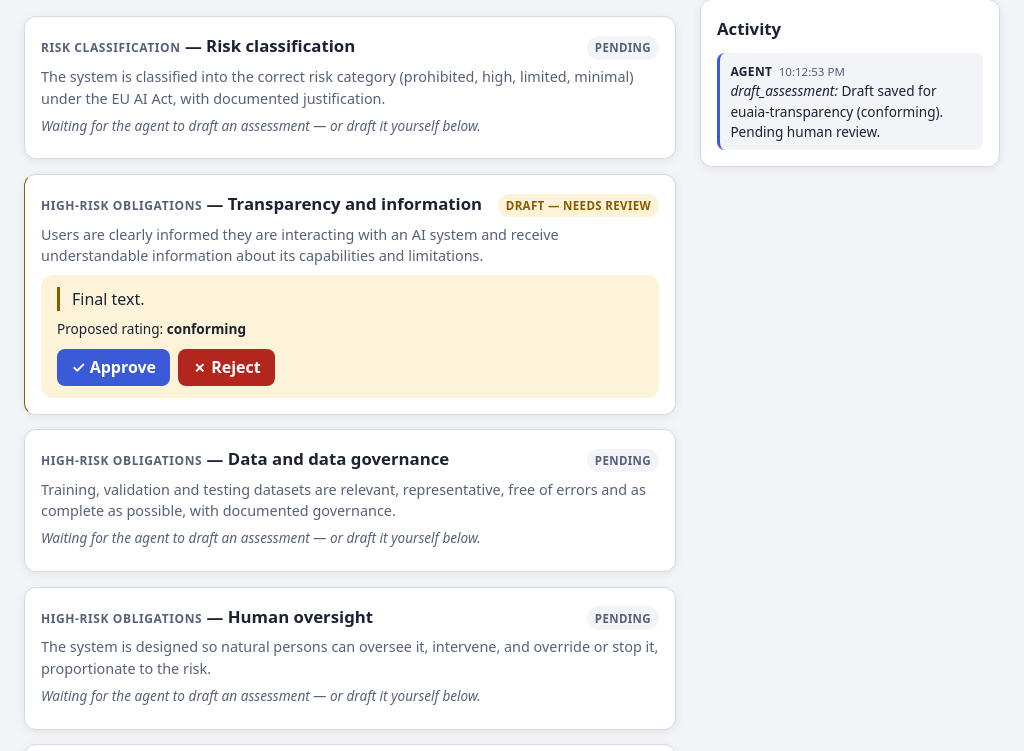
Scenario: página Auditoría › aprobar mueve el criterio a approved y muestra el texto final
(page scrolled)
What coordinates should you click on to do the following:
click the button "✓ Approve"
I would click on:
 (114, 367)
Its box is [57,349,170,386].
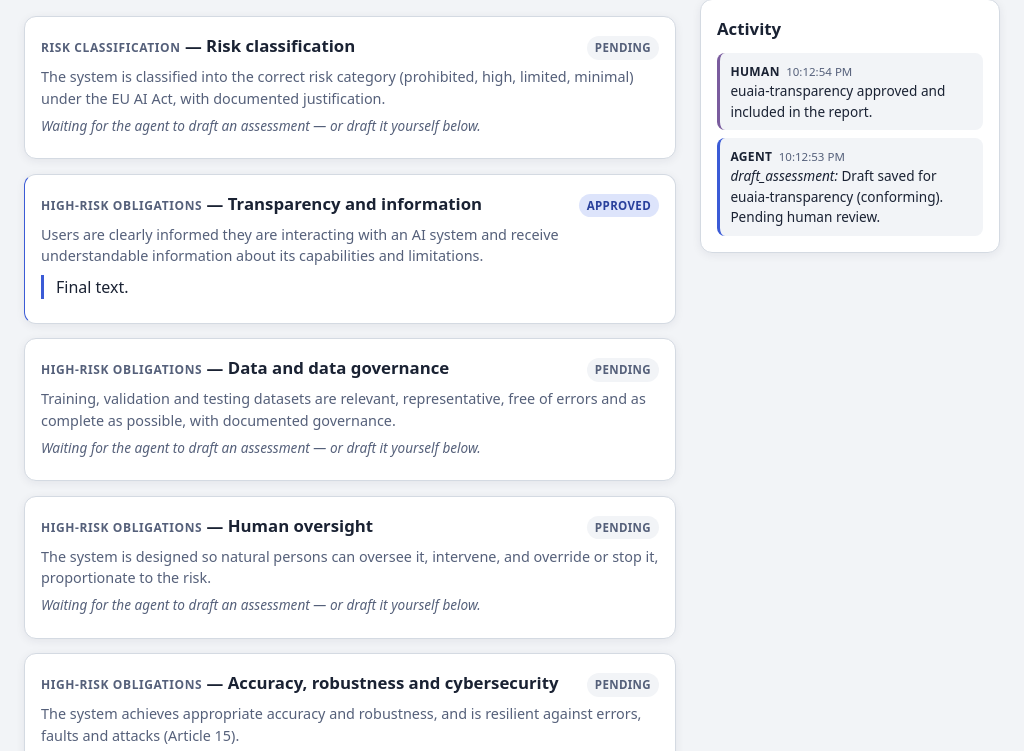
Expected: the text "Final text." is shown, [41,275,659,299]
Now the text "Approved" is shown, box [579,194,659,217]
